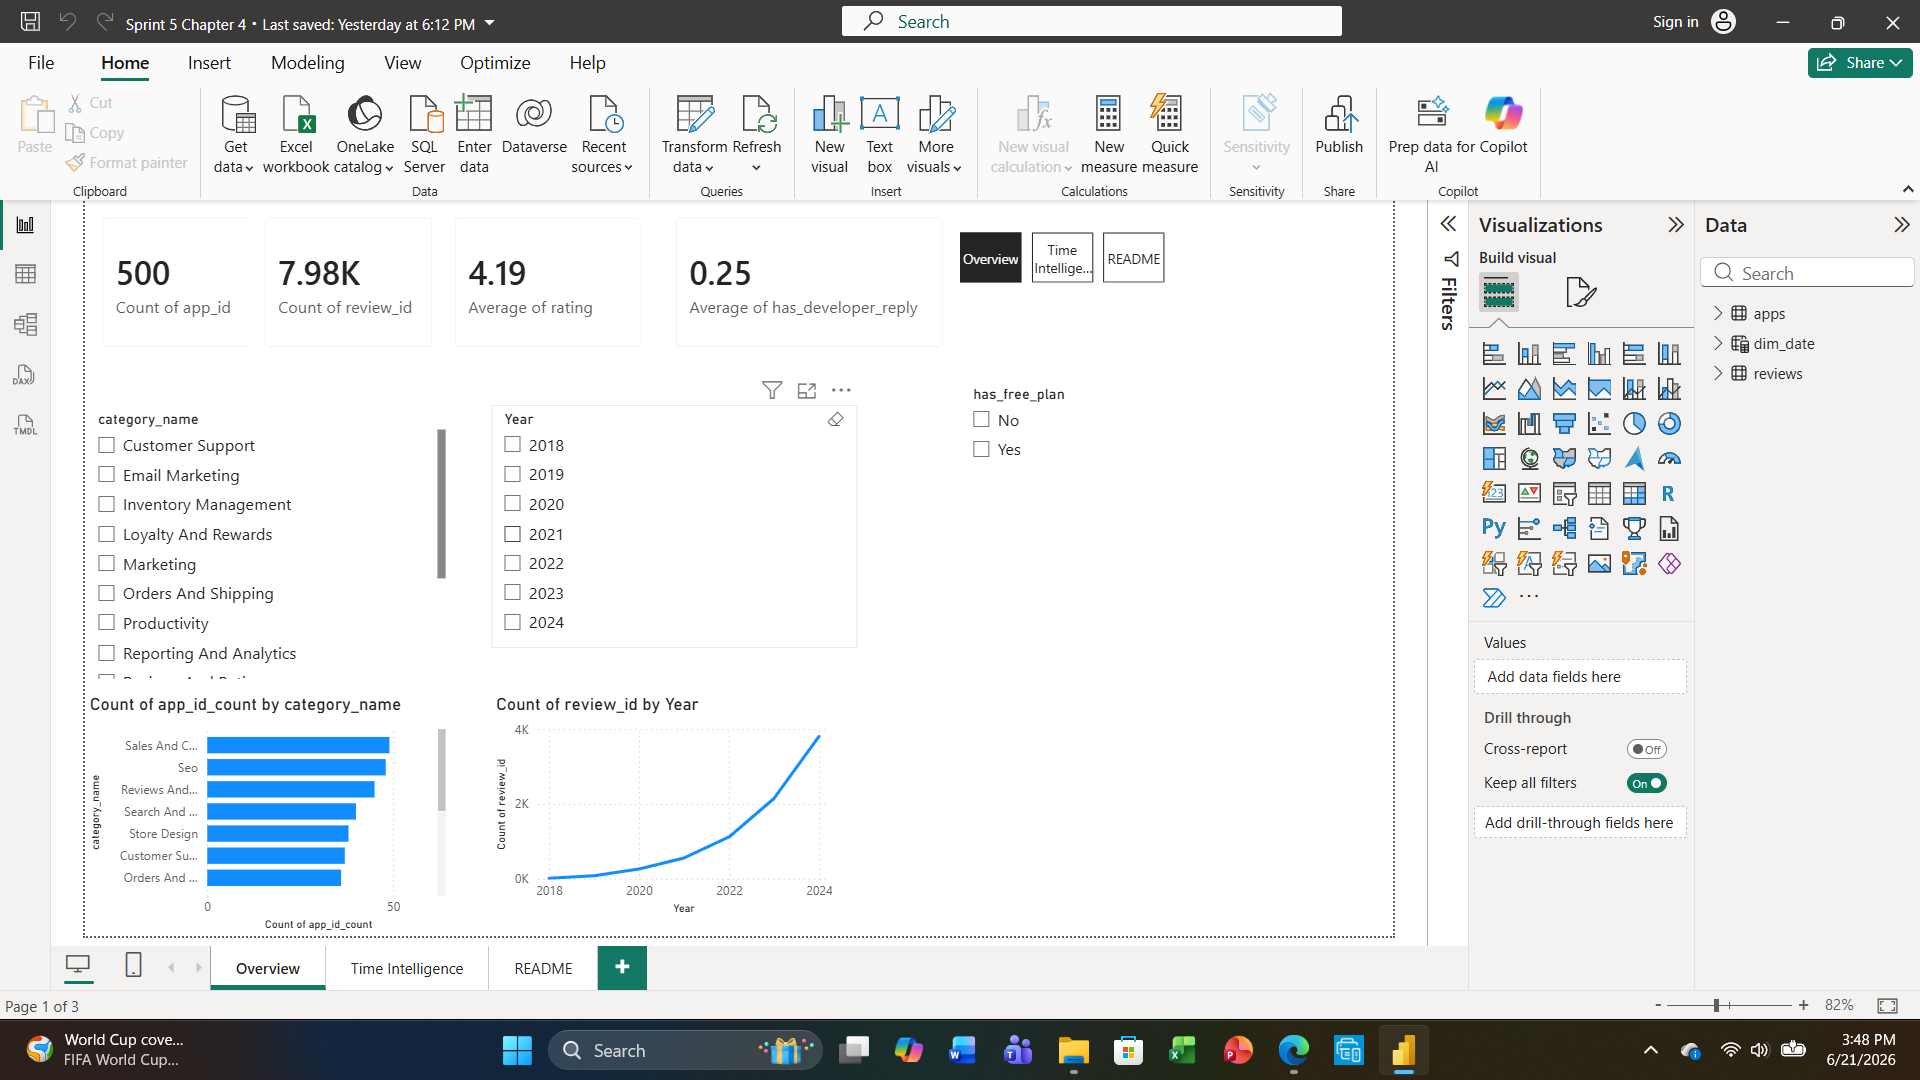

Layout of this report page (visuals, bound fields, positions):
{"tool":"powerbi","page":{"name":"Overview","canvas":[1280,720],"ordinal":0},"visuals":[{"type":"slicer","fields":{"Values":["apps.category_name"]},"box":[0,200.3,358.1,273.1],"z":1000},{"type":"cardVisual","fields":{"Data":["Count(apps.app_id)"]},"box":[0,0,179.8,161.9],"z":1001},{"type":"cardVisual","fields":{"Data":["Count(reviews.review_id)"]},"box":[159.2,0,199,161.9],"z":1002},{"type":"cardVisual","fields":{"Data":["Avg(reviews.rating)"]},"box":[344.4,0,216.8,161.9],"z":1003},{"type":"cardVisual","fields":{"Data":["Avg(reviews.has_developer_reply)"]},"box":[561.2,0,295,161.9],"z":1004},{"type":"slicer","fields":{"Values":["apps.has_free_plan"]},"box":[856.3,175.6,295,161.9],"z":1005},{"type":"slicer","fields":{"Values":["dim_date.Date.Variation.Date Hierarchy.Year"]},"box":[397.9,200.3,358.1,237.4],"z":1006},{"type":"lineChart","fields":{"Category":["dim_date.Date.Variation.Date Hierarchy.Year"],"Y":["Count(reviews.review_id)"]},"box":[397.9,483,338.9,220.9],"z":1007},{"type":"clusteredBarChart","fields":{"Category":["apps.category_name"],"Y":["CountNonNull(apps.app_id_count)"]},"box":[0,483,358,237],"z":1008},{"type":"pageNavigator","box":[856.3,31.6,200.3,49.4],"z":1009}]}

Visuals, with their boxes on the page's 1280x720 design canvas (x1, y1, x2, y2). These are canvas units, not pixel positions in the 1920x1080 screenshot, which may show the page scaled, cropped or inside an application window:
slicer - apps.category_name: box(0, 200, 358, 473)
cardVisual - Count(apps.app_id): box(0, 0, 180, 162)
cardVisual - Count(reviews.review_id): box(159, 0, 358, 162)
cardVisual - Avg(reviews.rating): box(344, 0, 561, 162)
cardVisual - Avg(reviews.has_developer_reply): box(561, 0, 856, 162)
slicer - apps.has_free_plan: box(856, 176, 1151, 338)
slicer - dim_date.Date.Variation.Date Hierarchy.Year: box(398, 200, 756, 438)
lineChart - dim_date.Date.Variation.Date Hierarchy.Year x Count(reviews.review_id): box(398, 483, 737, 704)
clusteredBarChart - apps.category_name x CountNonNull(apps.app_id_count): box(0, 483, 358, 720)
pageNavigator: box(856, 32, 1057, 81)
